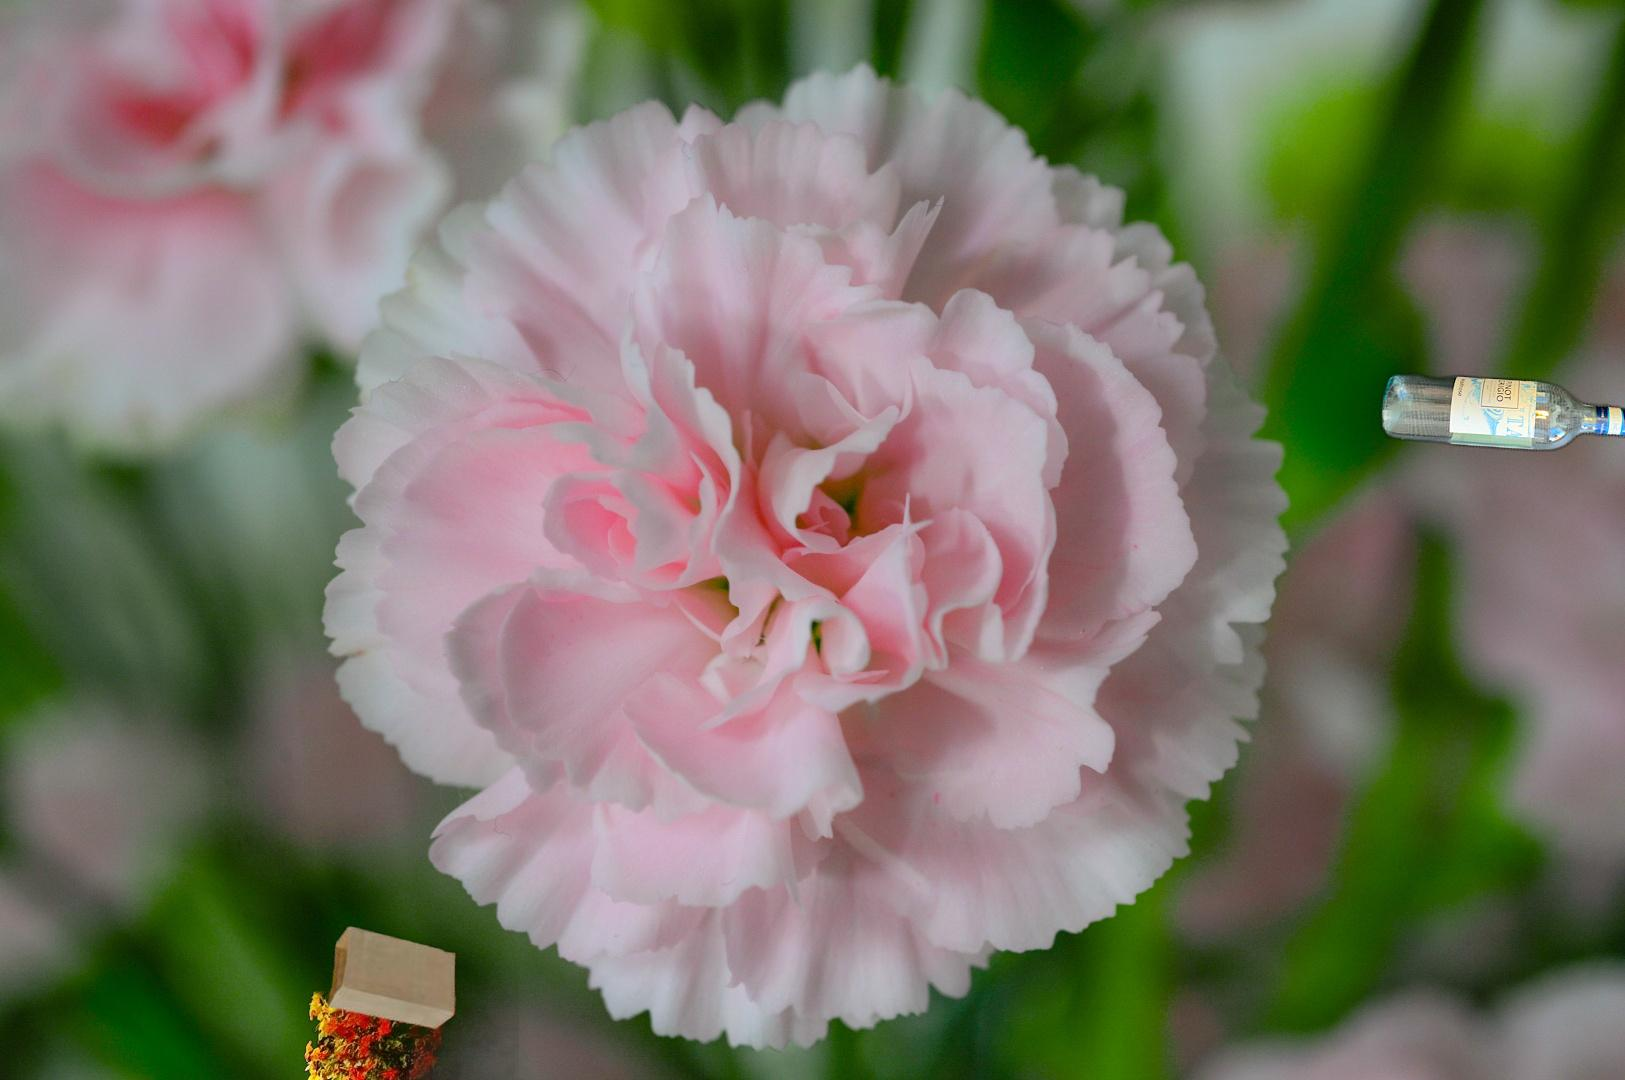glass: (1377, 366, 1625, 457)
paper-bag: (298, 900, 520, 1080)
